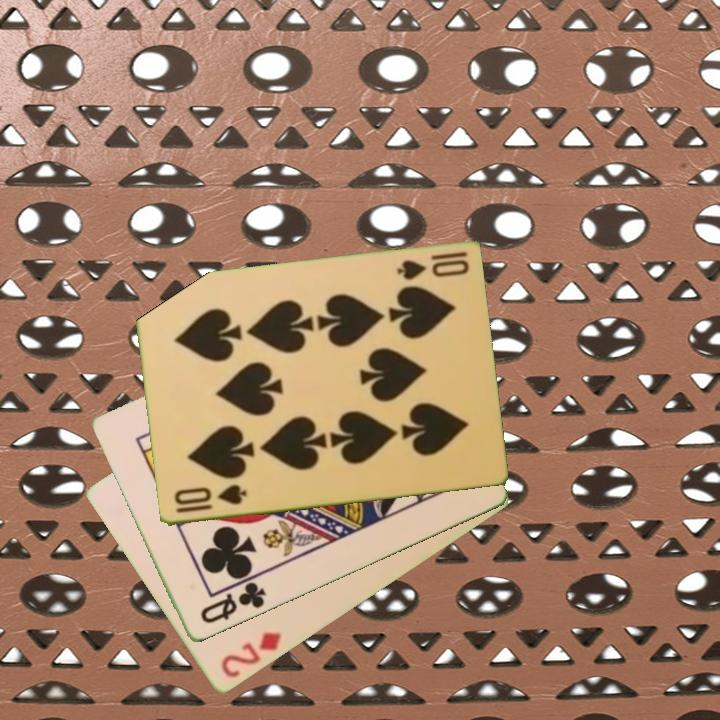10s: (170, 481, 249, 517), (393, 248, 472, 284)
2d: (217, 628, 285, 682)
Qc: (197, 579, 269, 627)
